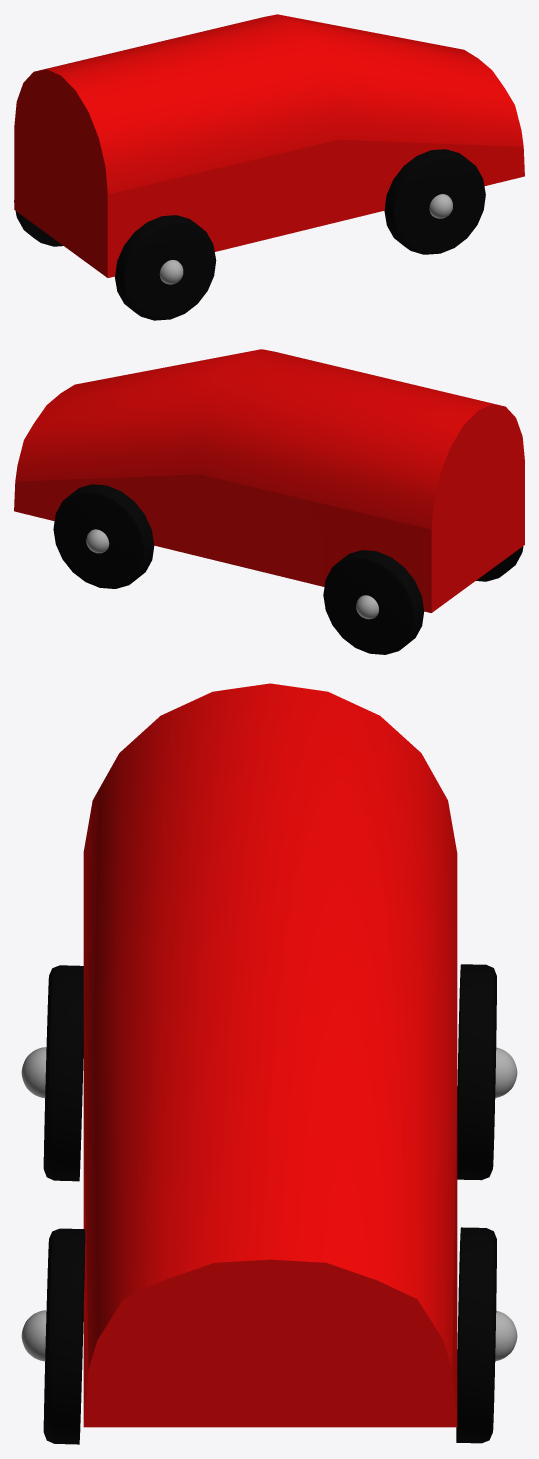
File: train.fbx
3 renders of one model, top to bottom at view 1: azimuth 30°, elevation 25°; view 2: azimuth 150°, elevation 25°; view 3: azimuth 270°, elevation 25°, orthographic. The views are drawn at different scales.
Visible parts, largest first — view 1: pCylinder3, pCylinder11, pCylinder12, pCylinder8, pSphere4, pSphere3; view 2: pCylinder3, pCylinder7, pCylinder8, pCylinder12, pSphere1, pSphere2; view 3: pCylinder3, pCylinder7, pCylinder8, pCylinder11, pCylinder12, pSphere3, pSphere4, pSphere1, pSphere2.
Part boxes in pixels (left/top/right/bottom): pCylinder3: left=14, top=14, right=524, bottom=277; pCylinder11: left=384, top=149, right=485, bottom=254; pCylinder12: left=115, top=215, right=216, bottom=320; pCylinder8: left=14, top=200, right=63, bottom=246; pSphere4: left=159, top=260, right=183, bottom=284; pSphere3: left=429, top=194, right=452, bottom=218; pCylinder3: left=14, top=349, right=524, bottom=612; pCylinder7: left=53, top=484, right=154, bottom=588; pCylinder8: left=323, top=550, right=424, bottom=654; pCylinder12: left=476, top=546, right=523, bottom=581; pSphere1: left=86, top=529, right=109, bottom=553; pSphere2: left=356, top=595, right=378, bottom=619; pCylinder3: left=83, top=683, right=457, bottom=1427; pCylinder7: left=456, top=1227, right=496, bottom=1443; pCylinder8: left=457, top=964, right=496, bottom=1180; pCylinder11: left=43, top=1228, right=85, bottom=1444; pCylinder12: left=43, top=965, right=83, bottom=1181; pSphere3: left=21, top=1310, right=46, bottom=1361; pSphere4: left=21, top=1047, right=46, bottom=1097; pSphere1: left=495, top=1310, right=517, bottom=1361; pSphere2: left=495, top=1047, right=517, bottom=1097.
Size of the model in its own units: 5.16 by 2.57 by 2.65.
